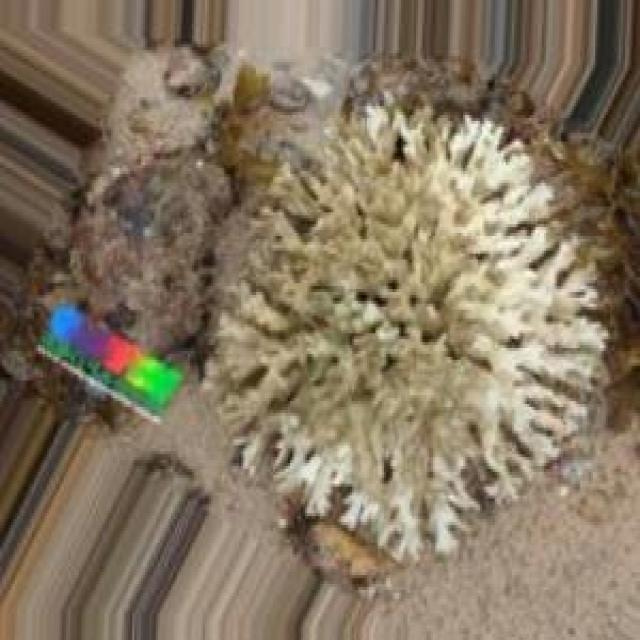Bleached: (216, 104, 607, 558)
